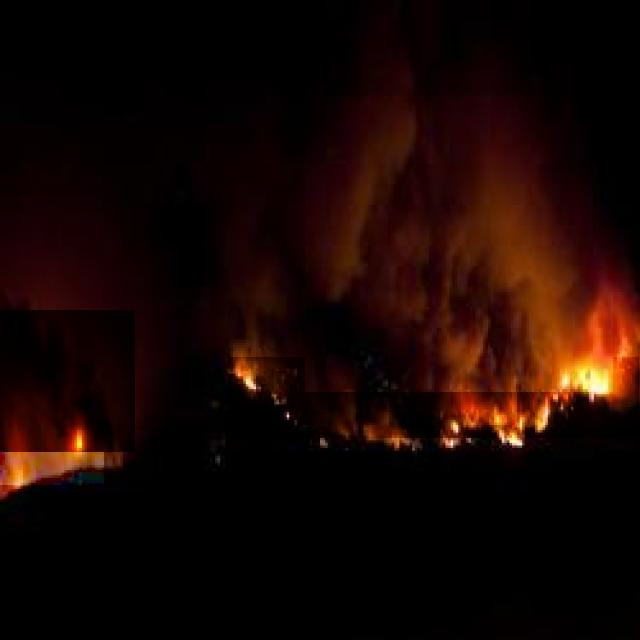Fire: (228, 357, 639, 438), (0, 424, 104, 486)
Smoke: (306, 96, 614, 392), (0, 310, 135, 452)
